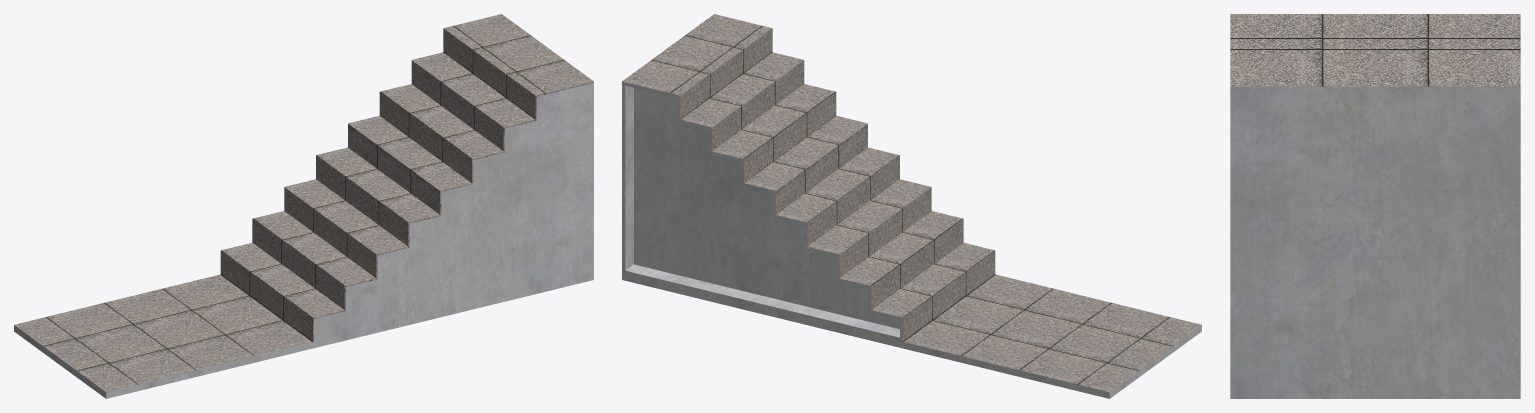
Rendered from ladder.glb.
3 views of the same model, side by side, from view 1: azimuth 30°, elevation 25°; view 2: azimuth 150°, elevation 25°; view 3: azimuth 270°, elevation 25° (orthographic). The views are drawn at different scales.
Visible parts, largest first — view 1: Material2, Material2.001; view 2: Material2, Material2.001; view 3: Material2.001, Material2.
Boxes of the visible parts, left/top/right/bottom form: Material2: left=14, top=14, right=593, bottom=392; Material2.001: left=14, top=83, right=593, bottom=398; Material2: left=622, top=14, right=1201, bottom=392; Material2.001: left=622, top=81, right=1201, bottom=398; Material2.001: left=1230, top=86, right=1520, bottom=398; Material2: left=1230, top=14, right=1520, bottom=86.
Bounding box in the file's own units: 6.24 × 2.43 × 2.05.
2 materials, 2 textured.
